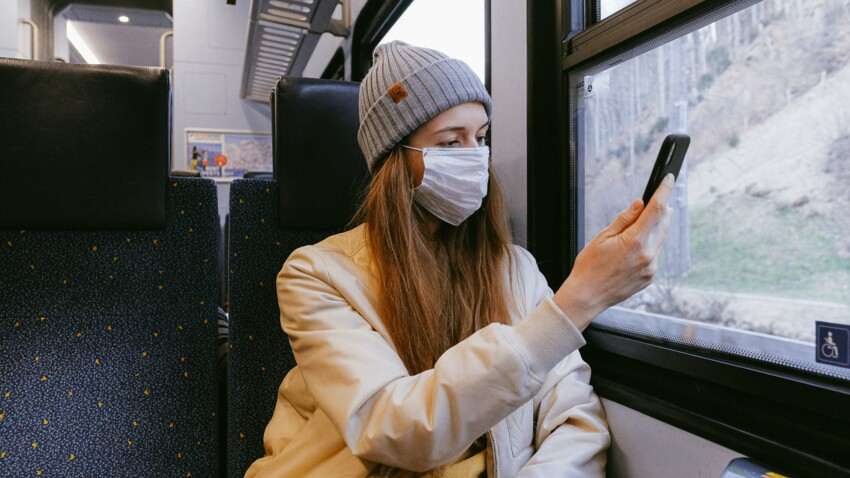with_mask: (407, 99, 491, 227)
